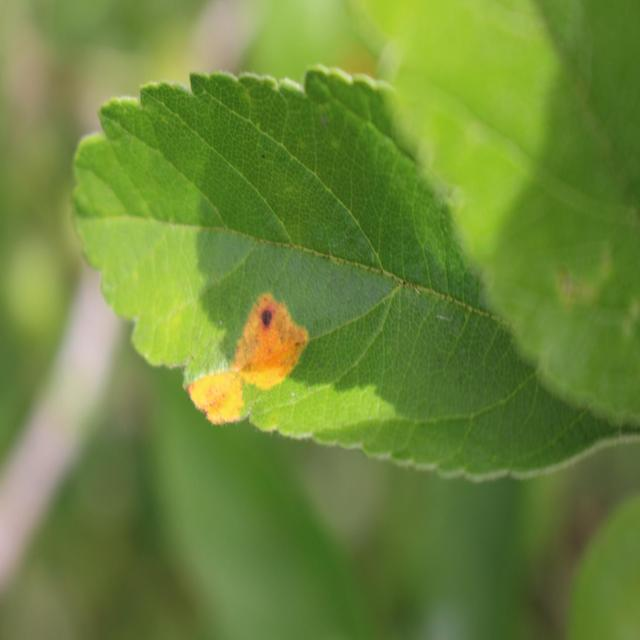Rust: (230, 278, 314, 392), (177, 358, 256, 432)
